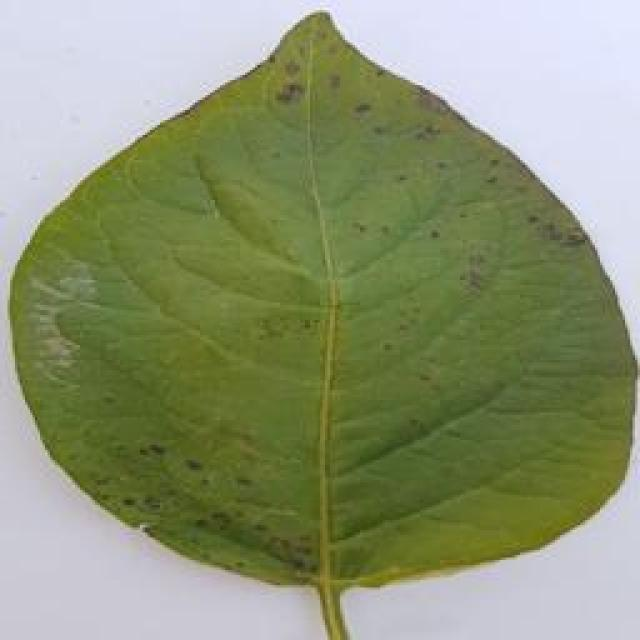Potato_Early_Blight: (5, 11, 613, 586)
